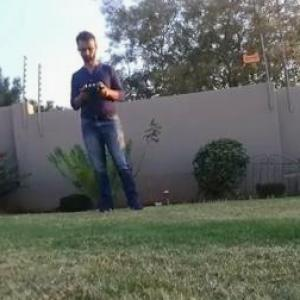follow: (68, 20, 151, 217)
